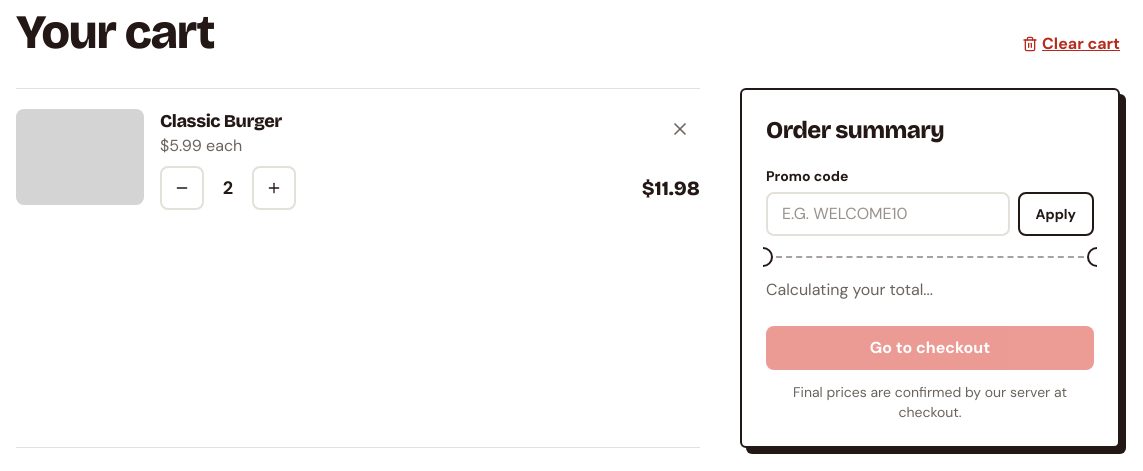
Cart page › removes an item and returns to the empty state
Click the button named "remove classic burger from cart" at (680, 129), box [660,109,700,149]
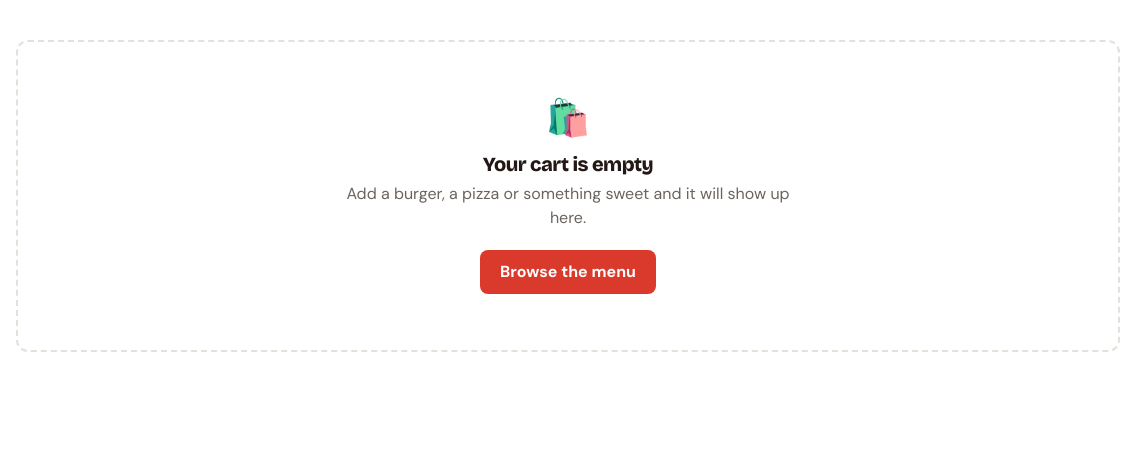
Expected: the heading "Your cart is empty" is shown, [483,152,653,176]
